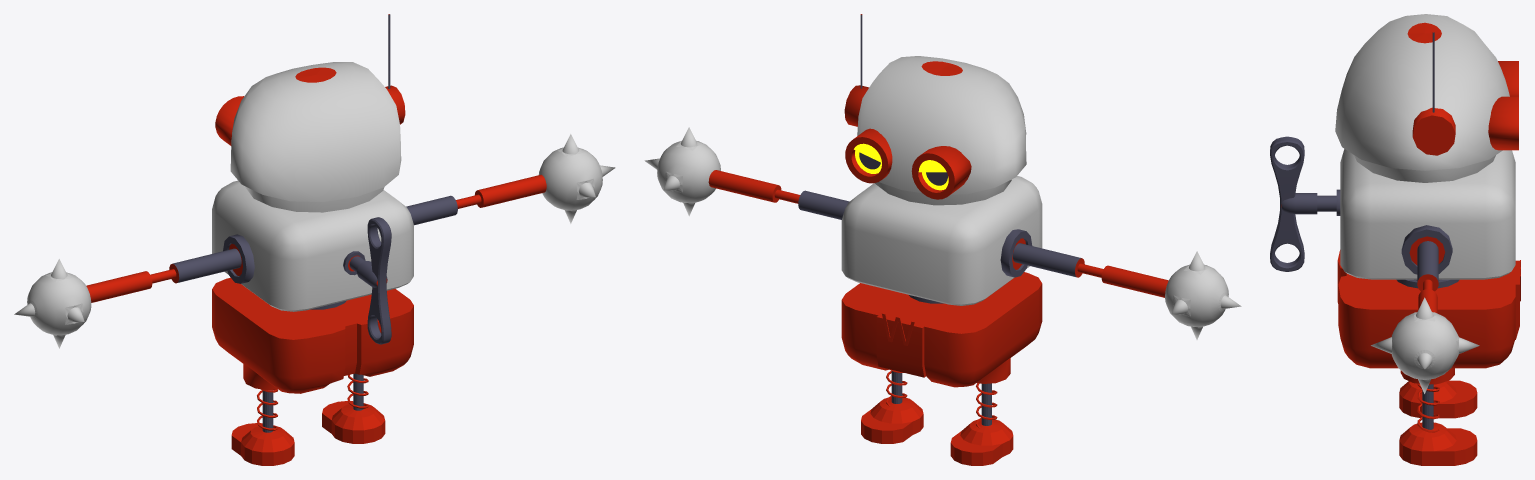
The model's file is luchador-bot.fbx.
3 views of the same model, side by side, from view 1: azimuth 30°, elevation 25°; view 2: azimuth 150°, elevation 25°; view 3: azimuth 270°, elevation 25° (orthographic). The views are drawn at different scales.
Parts seen in each view (by area): view 1: cuerpo, cabeza, brazos002, brazos, palanca, piernas003, piernas; view 2: cuerpo, cabeza, brazos002, brazos, piernas003, piernas; view 3: cuerpo, cabeza, brazos, palanca, piernas, piernas003.
Boxes of the visible parts, bbox=[...] form: cuerpo: bbox=[212, 180, 413, 393]; cabeza: bbox=[215, 14, 405, 212]; brazos002: bbox=[14, 248, 241, 348]; brazos: bbox=[406, 134, 615, 225]; palanca: bbox=[349, 217, 391, 344]; piernas003: bbox=[231, 389, 294, 465]; piernas: bbox=[322, 373, 385, 443]; cuerpo: bbox=[841, 176, 1042, 387]; cabeza: bbox=[844, 14, 1026, 205]; brazos002: bbox=[1013, 243, 1241, 339]; brazos: bbox=[644, 127, 849, 219]; piernas003: bbox=[950, 383, 1013, 465]; piernas: bbox=[861, 369, 923, 443]; cuerpo: bbox=[1336, 149, 1520, 384]; cabeza: bbox=[1335, 14, 1518, 182]; brazos: bbox=[1371, 241, 1479, 393]; palanca: bbox=[1270, 136, 1336, 271]; piernas: bbox=[1399, 383, 1477, 465]; piernas003: bbox=[1399, 380, 1477, 418].
Bounding box in the file's own units: 227 × 147 × 76.15.
